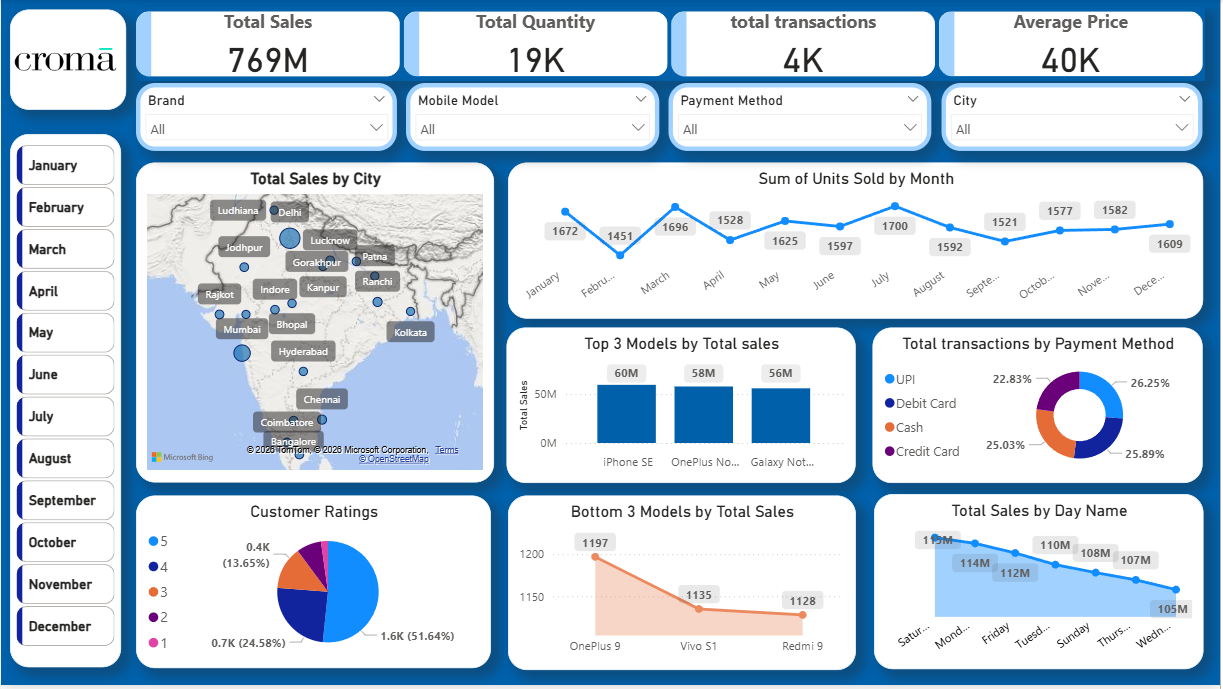

This screenshot's page, from the dashboard's own definition file:
{"tool":"powerbi","page":{"name":"Page 8","canvas":[1280,720],"ordinal":0},"visuals":[{"type":"shape","box":[10,11.7,121.7,105],"z":1000},{"type":"shape","box":[10,141.7,116.7,560],"z":3000},{"type":"advancedSlicerVisual","fields":{"Values":["Sales_DATA.Date.Variation.Date Hierarchy.Month"]},"box":[11.7,148.3,113.3,545],"z":4000},{"type":"cardVisual","fields":{"Data":["Sales_DATA.Total Sales","Sales_DATA.Total Quantity","Sales_DATA.total transactions","Sales_DATA.Average Price"]},"box":[141.8,7.2,1123,78.8],"z":5000},{"type":"map","fields":{"Category":["Sales_DATA.City"],"Size":["Sales_DATA.Total Sales"]},"box":[142,172,376,336],"z":6000},{"type":"lineChart","fields":{"Y":["Sum(Sales_DATA.Units Sold)"],"Category":["Sales_DATA.Date.Variation.Date Hierarchy.Month","Sales_DATA.Date.Variation.Date Hierarchy.Day"]},"box":[532,172,730,164],"z":7000},{"type":"lineStackedColumnComboChart","title":"Top 3 Models by Total sales","fields":{"Category":["Sales_DATA.Mobile Model"],"Y":["Sales_DATA.Total Sales"]},"box":[531.4,345.2,366.7,163.3],"z":8000},{"type":"donutChart","title":"Total transactions by Payment Method","fields":{"Category":["Sales_DATA.Payment Method"],"Y":["Sales_DATA.total transactions"]},"box":[915.3,345.2,346.6,163.3],"z":9000},{"type":"pieChart","title":"Customer Ratings","fields":{"Category":["Sales_DATA.Customer Ratings"],"Y":["Sum(Sales_DATA.Customer Ratings)"]},"box":[141.4,521.4,372.9,181.4],"z":10000},{"type":"areaChart","fields":{"Y":["Sales_DATA.Total Sales"],"Category":["Sales_DATA.Day Name"]},"box":[916,520,346,184],"z":11000},{"type":"stackedAreaChart","title":"Bottom 3 Models by Total Sales","fields":{"Category":["Sales_DATA.Mobile Model"],"Y":["Sales_DATA.Total Quantity"]},"box":[532,521,365,183],"z":12000},{"type":"slicer","fields":{"Values":["Sales_DATA.Brand"]},"box":[141.4,88.6,274.3,71.4],"z":13000},{"type":"slicer","fields":{"Values":["Sales_DATA.Mobile Model"]},"box":[425.7,88.6,265.7,71.4],"z":14000},{"type":"slicer","fields":{"Values":["Sales_DATA.Payment Method"]},"box":[701.4,88.6,275.7,71.4],"z":15000},{"type":"slicer","fields":{"Values":["Sales_DATA.City"]},"box":[987.1,88.6,274.3,71.4],"z":16000},{"type":"image","box":[4.9,1.6,126.9,123.6],"z":16001}]}

Visuals, with their boxes in screenshot pixels (x1, y1, x2, y2), scaled from the page's 1280x720 canvas onto the 1223x689 screenshot:
shape: select_region(10, 11, 126, 112)
shape: select_region(10, 136, 121, 671)
advancedSlicerVisual - Sales_DATA.Date.Variation.Date Hierarchy.Month: select_region(11, 142, 119, 663)
cardVisual - Sales_DATA.Total Sales x Sales_DATA.Total Quantity: select_region(135, 7, 1208, 82)
map - Sales_DATA.City x Sales_DATA.Total Sales: select_region(136, 165, 495, 486)
lineChart - Sum(Sales_DATA.Units Sold) x Sales_DATA.Date.Variation.Date Hierarchy.Month: select_region(508, 165, 1206, 322)
"Top 3 Models by Total sales" lineStackedColumnComboChart: select_region(508, 330, 858, 487)
"Total transactions by Payment Method" donutChart: select_region(875, 330, 1206, 487)
"Customer Ratings" pieChart: select_region(135, 499, 491, 673)
areaChart - Sales_DATA.Total Sales x Sales_DATA.Day Name: select_region(875, 498, 1206, 674)
"Bottom 3 Models by Total Sales" stackedAreaChart: select_region(508, 499, 857, 674)
slicer - Sales_DATA.Brand: select_region(135, 85, 397, 153)
slicer - Sales_DATA.Mobile Model: select_region(407, 85, 661, 153)
slicer - Sales_DATA.Payment Method: select_region(670, 85, 934, 153)
slicer - Sales_DATA.City: select_region(943, 85, 1205, 153)
image: select_region(5, 2, 126, 120)
